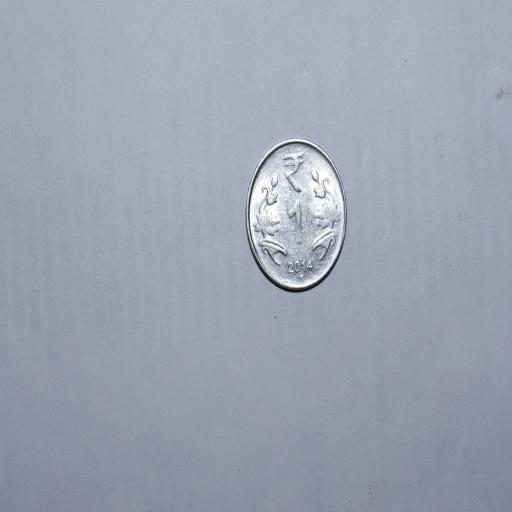rupee1: (241, 136, 346, 295)
